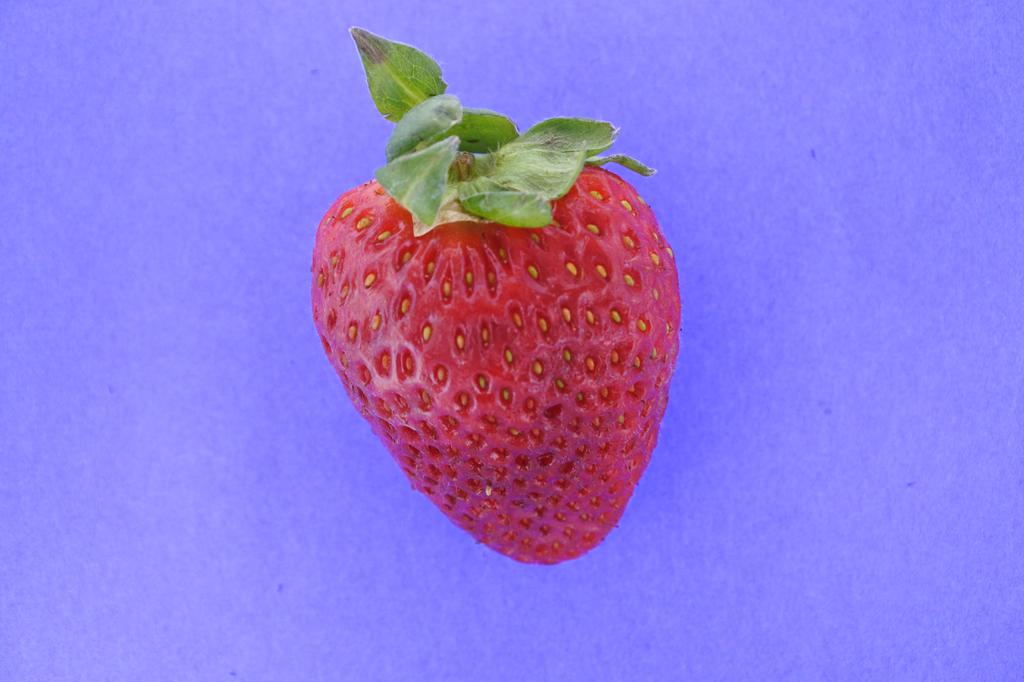red strawberry: (308, 26, 683, 574)
